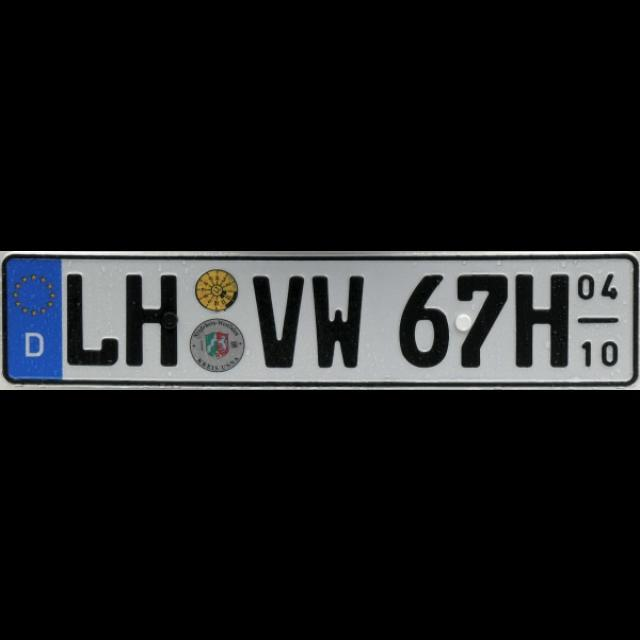license-plates: (3, 256, 639, 386)
